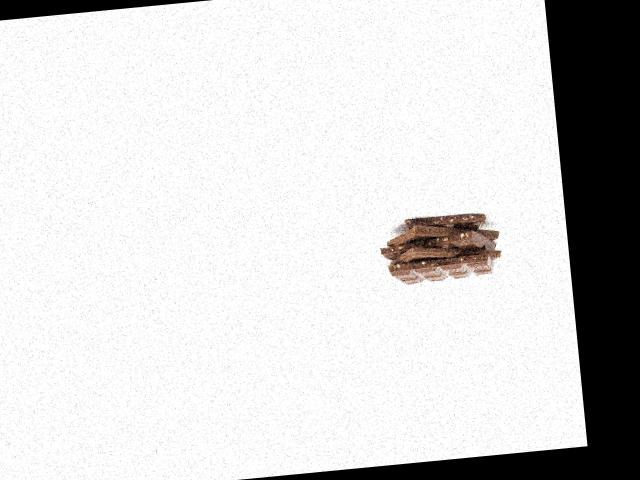chocolate: (384, 204, 498, 259)
